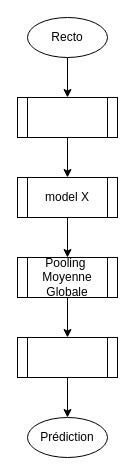
Image size: 135x475. Some labels were removed from this diagram. The centre of each missing label's shape, as x and y in pixels:
"Dense Dropout 0,2 7 sorties" belongs at (x=67, y=357).
"Pré-traitement du model X" belongs at (x=67, y=117).
